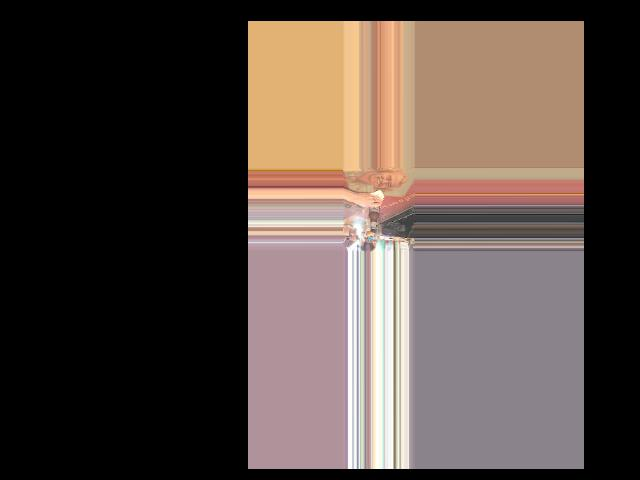beer: (369, 195, 380, 234)
